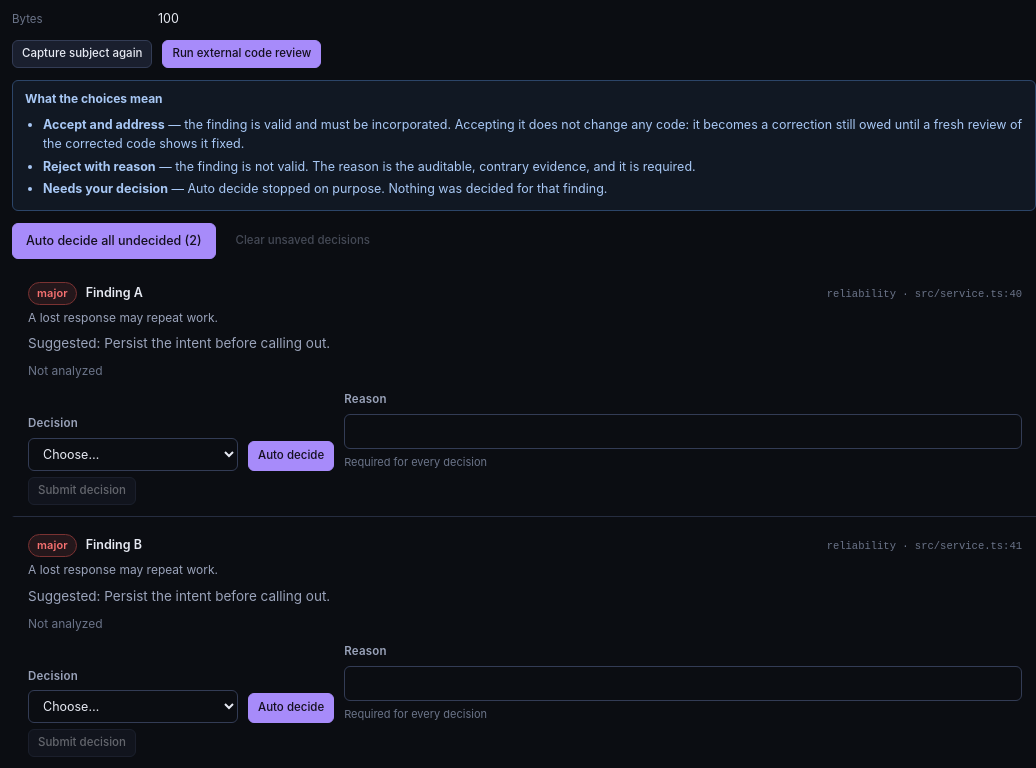
code review: Auto decide beside every Decision › records a reject at once, with its reason
The width and height of the screenshot is (1036, 768).
(page scrolled)
expect the text "Finding A" is shown: met, box [86, 283, 143, 302]
Click the button "Auto decide" below "Finding B" at [291, 708], box [248, 693, 334, 723]
(page scrolled)
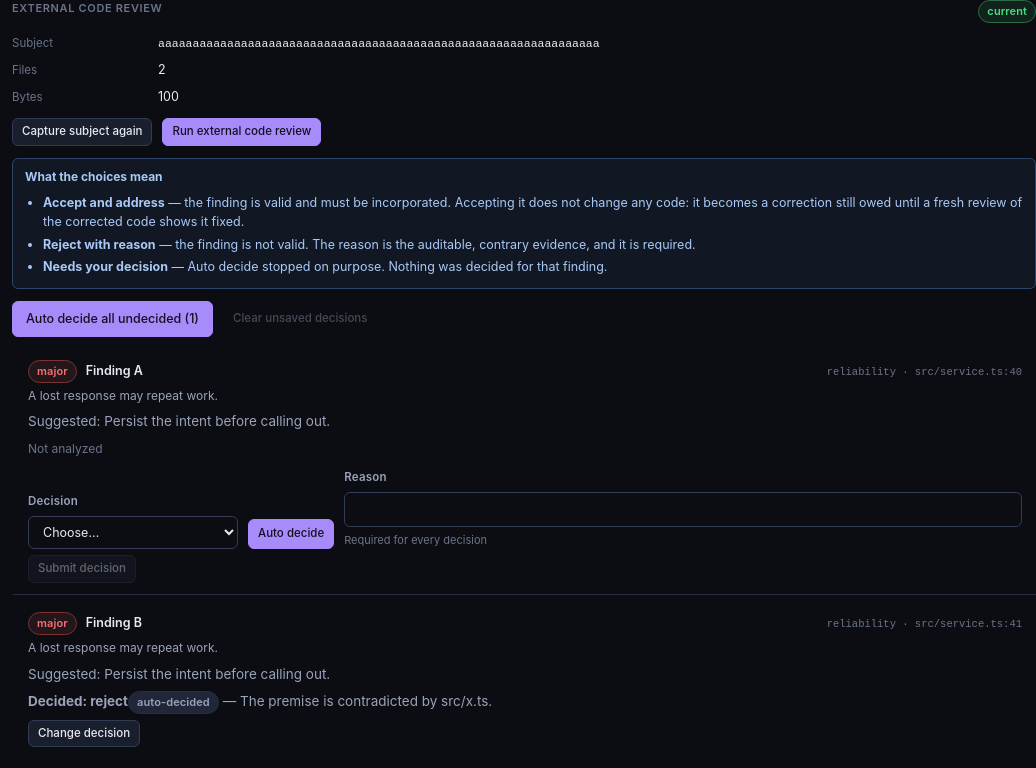
expect the text "Decided: reject" shows "contradicted by src/x.ts": met, box [240, 692, 492, 708]
